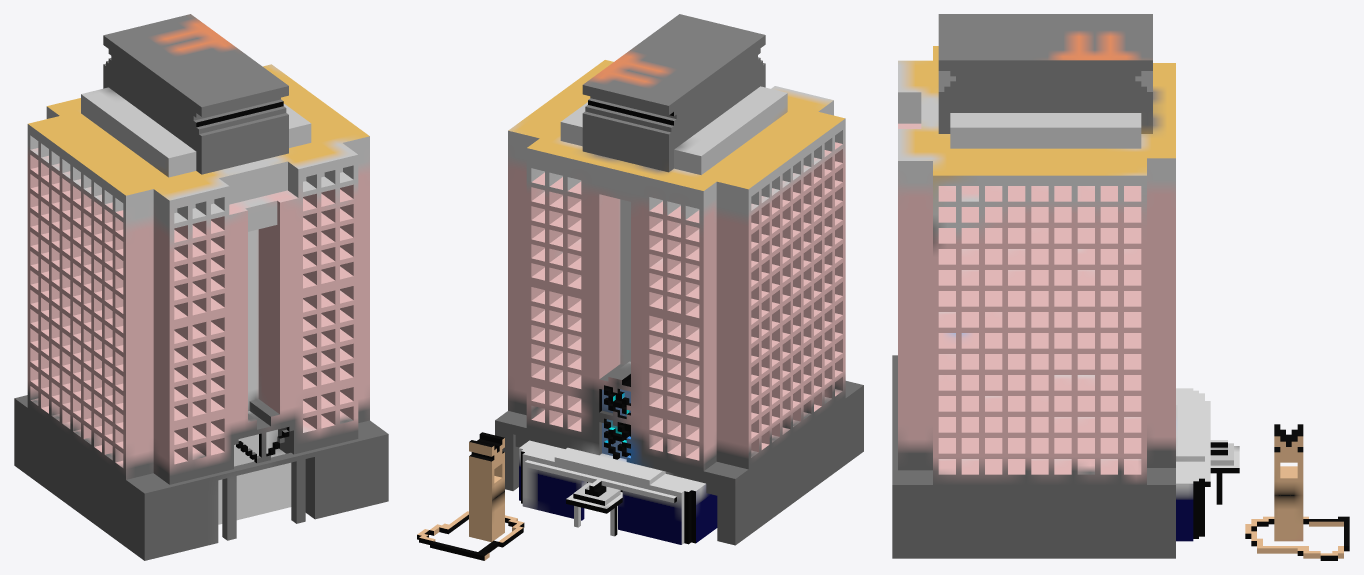
File: kagoshimakentyou.glb
The picture shows the model from 3 angles, left to right: view 1: azimuth 30°, elevation 25°; view 2: azimuth 150°, elevation 25°; view 3: azimuth 270°, elevation 25°; orthographic projection. The views are drawn at different scales.
Parts seen in each view (by area): view 1: kagoshimakentyou; view 2: kagoshimakentyou; view 3: kagoshimakentyou.
Boxes of the visible parts, left/top/right/bottom form: kagoshimakentyou: left=14, top=14, right=388, bottom=560; kagoshimakentyou: left=417, top=14, right=863, bottom=560; kagoshimakentyou: left=892, top=14, right=1349, bottom=560.
Bounding box in the file's own units: 1.08 × 1.74 × 1.58.
Materials: 1 (1 with a texture image).
